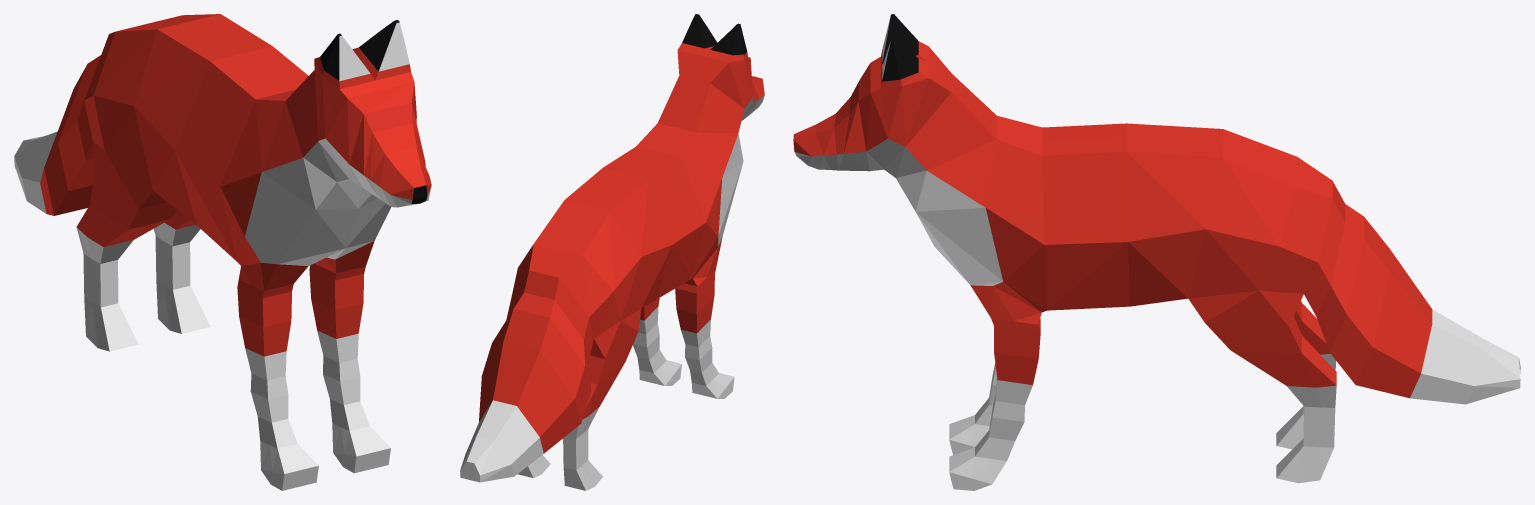
Rendered from redvixen.fbx.
3 views of the same model, side by side, from view 1: azimuth 30°, elevation 25°; view 2: azimuth 150°, elevation 25°; view 3: azimuth 270°, elevation 25° (orthographic). The views are drawn at different scales.
Parts seen in each view (by area): view 1: RedVixen; view 2: RedVixen; view 3: RedVixen.
Part boxes in pixels (x1,y1,x2,y2): RedVixen: [14, 14, 431, 490]; RedVixen: [460, 14, 764, 490]; RedVixen: [793, 14, 1520, 490].
Size of the model in its own units: 0.1762 by 0.6096 by 0.914.
